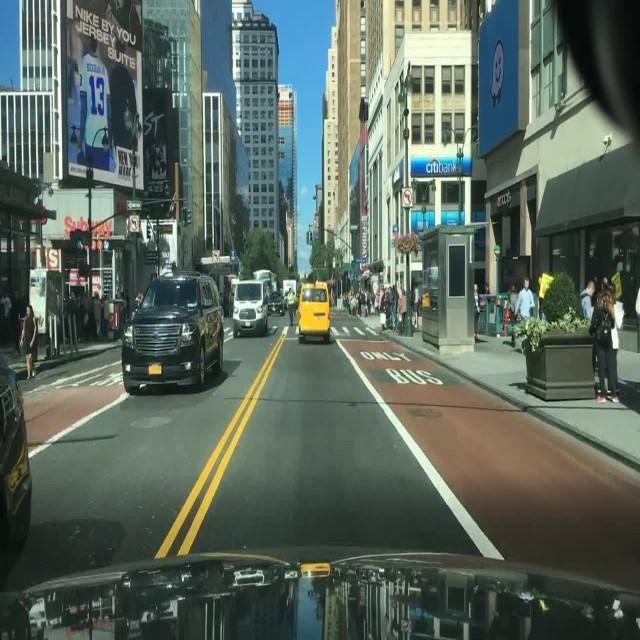normal: (122, 275, 230, 395), (230, 281, 268, 339), (299, 279, 334, 341)
